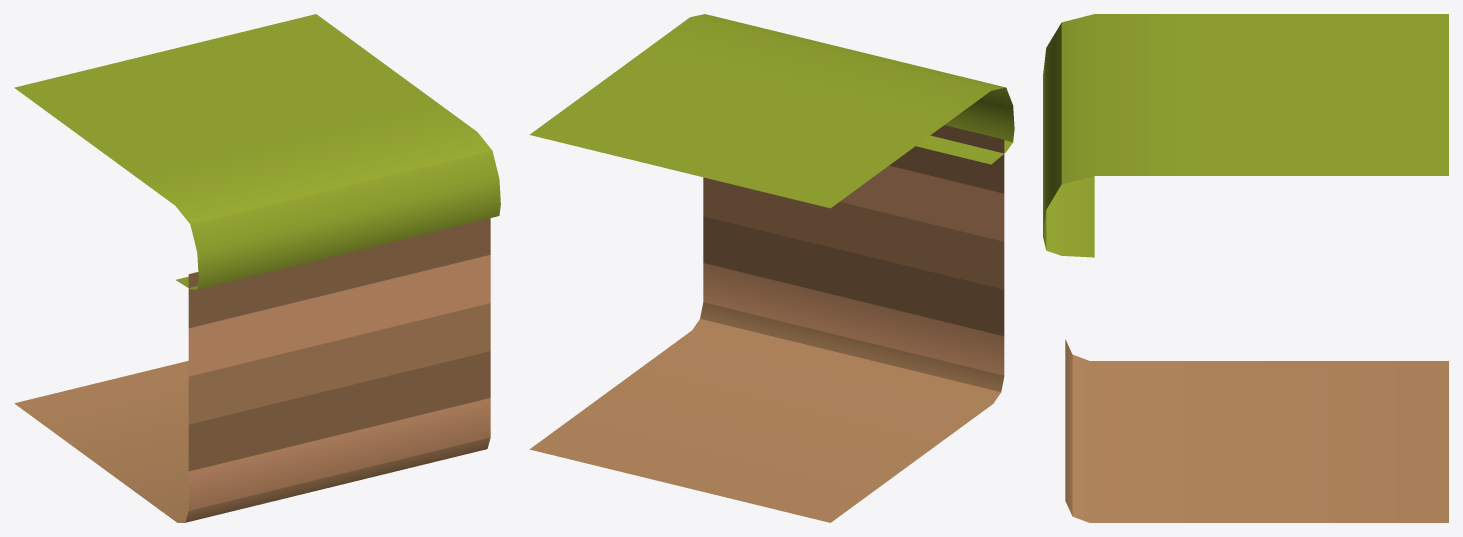
File: Cube_Grass_Side.gltf
3 views of the same model, side by side, from view 1: azimuth 30°, elevation 25°; view 2: azimuth 150°, elevation 25°; view 3: azimuth 270°, elevation 25° (orthographic). The views are drawn at different scales.
Parts seen in each view (by area): view 1: Cube_Grass_Side; view 2: Cube_Grass_Side; view 3: Cube_Grass_Side.
Part boxes in pixels (x1=…): Cube_Grass_Side: x1=14, y1=14, x2=500, y2=522; Cube_Grass_Side: x1=529, y1=14, x2=1014, y2=522; Cube_Grass_Side: x1=1043, y1=14, x2=1448, y2=522.
Bounding box in the file's own units: 2 × 2 × 2.12.
